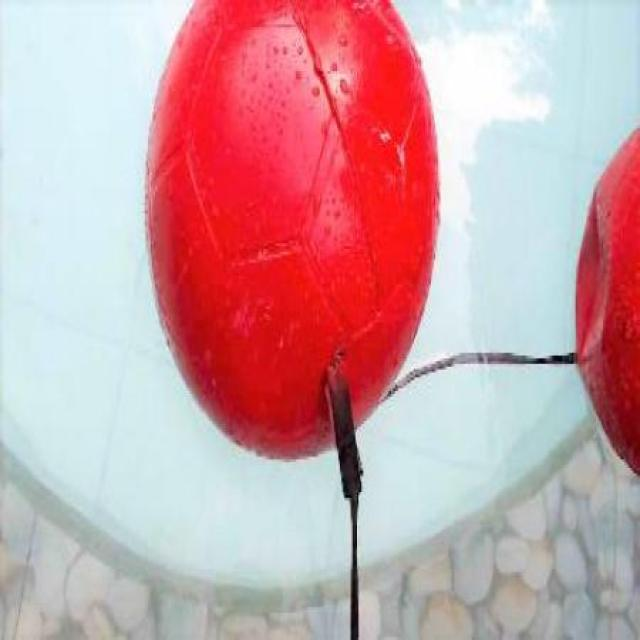buoy: (143, 0, 439, 459), (573, 125, 639, 477)
